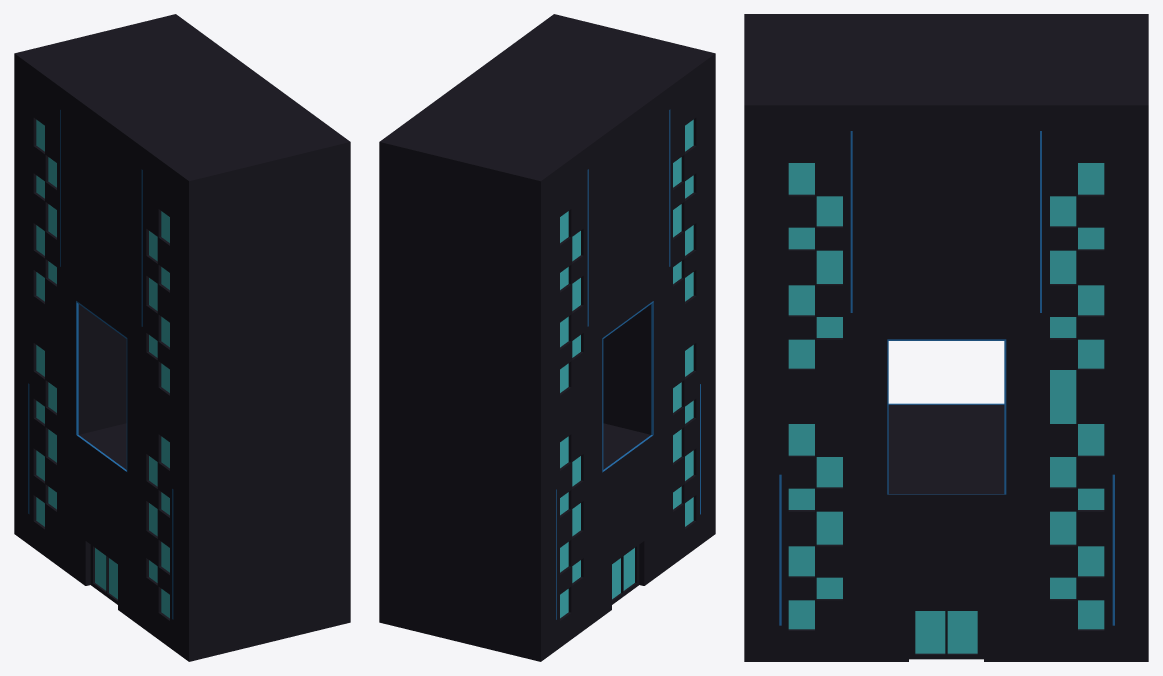
File: FinalBuilding_Big_6.1.fbx
3 renders of one model, left to right at view 1: azimuth 30°, elevation 25°; view 2: azimuth 150°, elevation 25°; view 3: azimuth 270°, elevation 25°, orthographic. The views are drawn at different scales.
Visible parts, largest first — view 1: Buildings_Big; view 2: Buildings_Big; view 3: Buildings_Big.
Boxes of the visible parts, x1=… form: Buildings_Big: x1=14, y1=14, x2=350, y2=661; Buildings_Big: x1=379, y1=14, x2=715, y2=661; Buildings_Big: x1=744, y1=14, x2=1148, y2=661.
Size of the model in its own units: 11.77 by 33.33 by 21.96.
